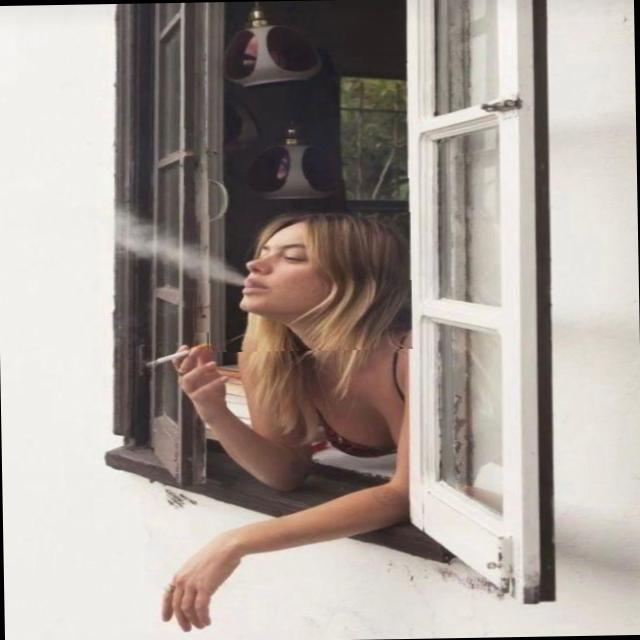cigarette: (127, 332, 210, 371)
